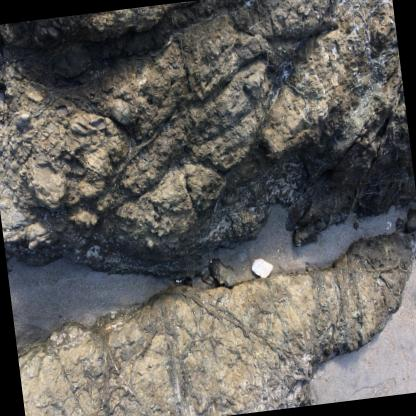Waste: (250, 258, 272, 277)
